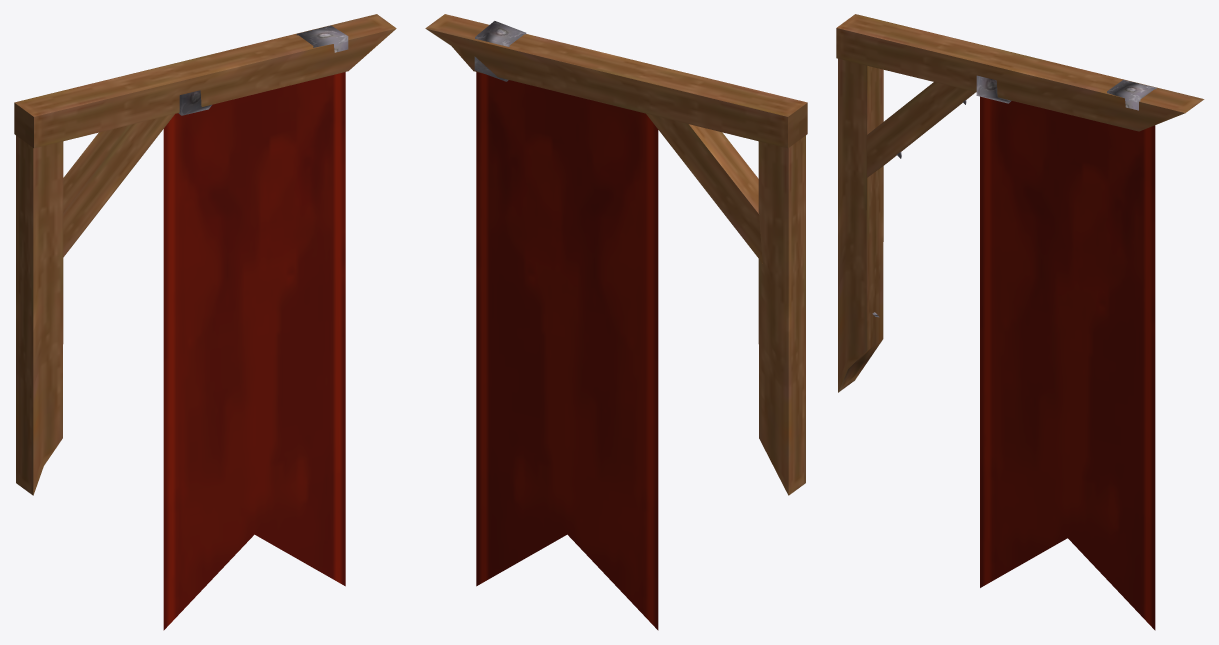
Rendered from Banner_1.medium.gltf.
3 views of the same model, side by side, from view 1: azimuth 30°, elevation 25°; view 2: azimuth 150°, elevation 25°; view 3: azimuth 330°, elevation 25° (orthographic). The views are drawn at different scales.
Visible parts, largest first — view 1: Banner_1; view 2: Banner_1; view 3: Banner_1.
Part boxes in pixels (x1,y1,x2,y2): Banner_1: (14,14,396,630); Banner_1: (425,14,807,630); Banner_1: (836,14,1204,630).
Bounding box in the file's own units: 1.61 × 2.38 × 0.1714.
3 materials, 3 textured.
